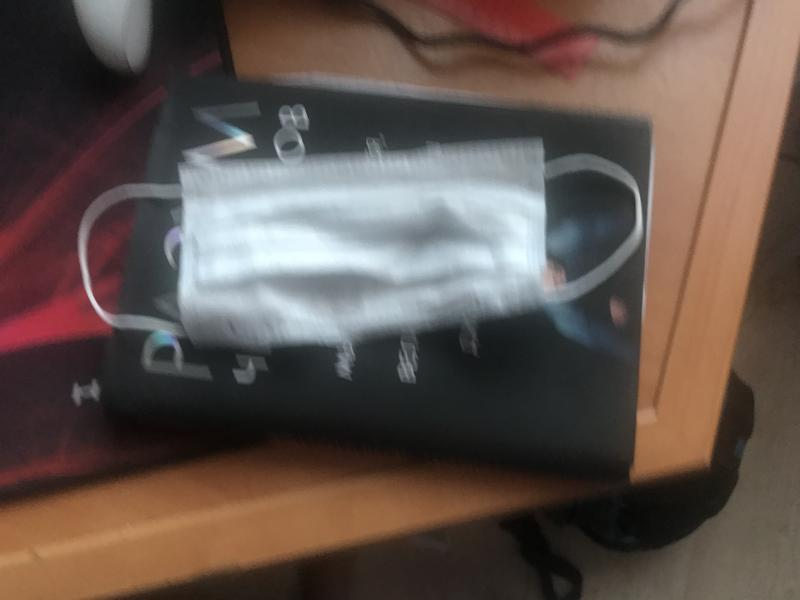medical_mask: (81, 147, 644, 345)
